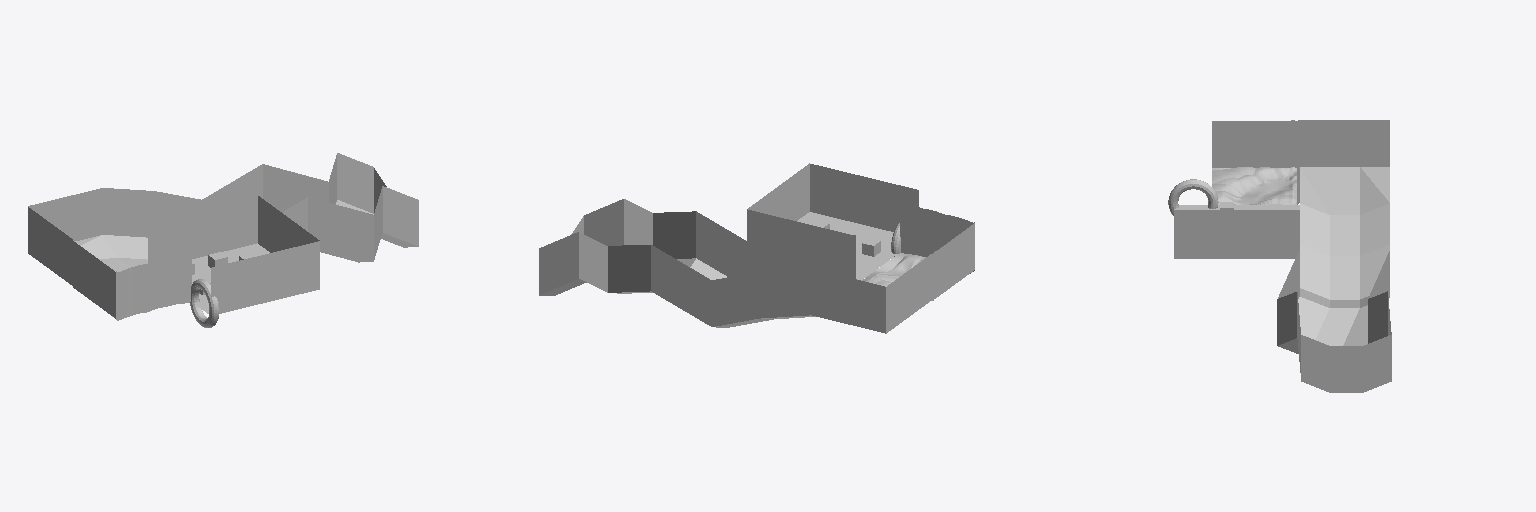
Rendered from land.obj.
3 views of the same model, side by side, from view 1: azimuth 30°, elevation 25°; view 2: azimuth 150°, elevation 25°; view 3: azimuth 270°, elevation 25° (orthographic).
Parts seen in each view (by area): view 1: Plane.001; view 2: Plane.001; view 3: Plane.001.
Boxes of the visible parts, box(x1,y1,x2,y2) form: Plane.001: box(28, 153, 418, 327); Plane.001: box(539, 163, 974, 333); Plane.001: box(1168, 120, 1391, 392).
Bounding box in the file's own units: 4571 × 1331 × 2550.